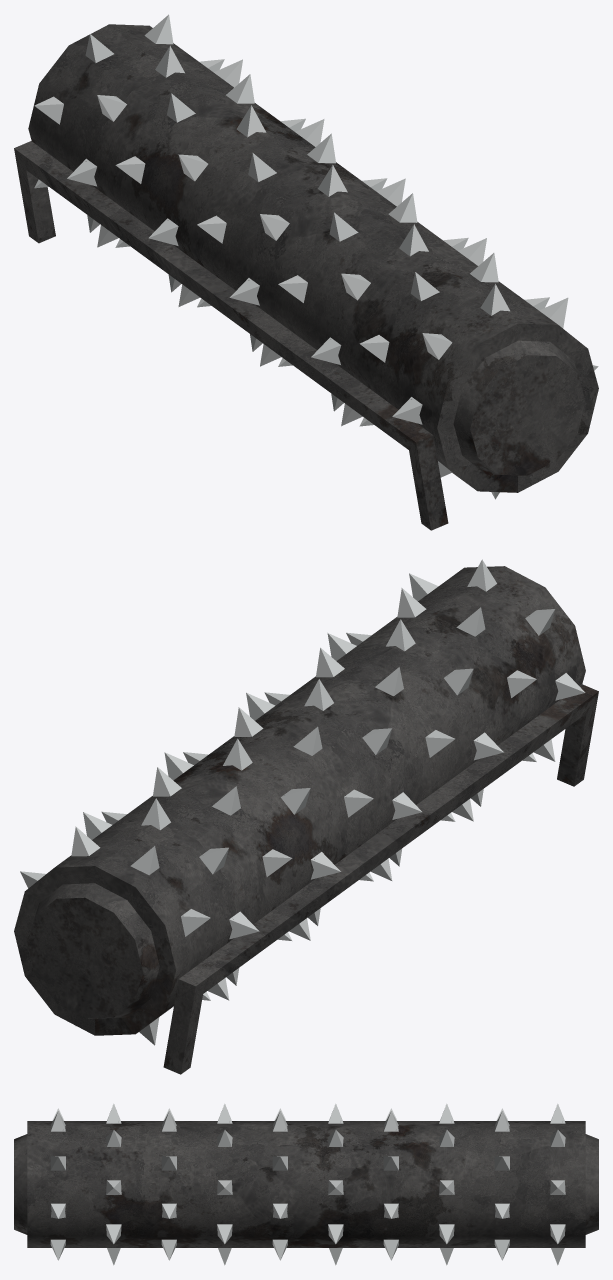
Rendered from dikenli bar.fbx.
3 views of the same model, one above another, from view 1: azimuth 30°, elevation 25°; view 2: azimuth 150°, elevation 25°; view 3: azimuth 270°, elevation 25° (orthographic). The views are drawn at different scales.
Parts seen in each view (by area): view 1: Cylinder, Plane; view 2: Cylinder, Plane; view 3: Cylinder.
Part boxes in pixels (left/top/right/bottom): Cylinder: left=28, top=14, right=598, bottom=499; Plane: left=14, top=141, right=448, bottom=530; Cylinder: left=14, top=559, right=585, bottom=1045; Plane: left=163, top=684, right=598, bottom=1074; Cylinder: left=14, top=1103, right=598, bottom=1265.
Size of the model in its own units: 255 by 255 by 917.
1 material, 1 textured.
